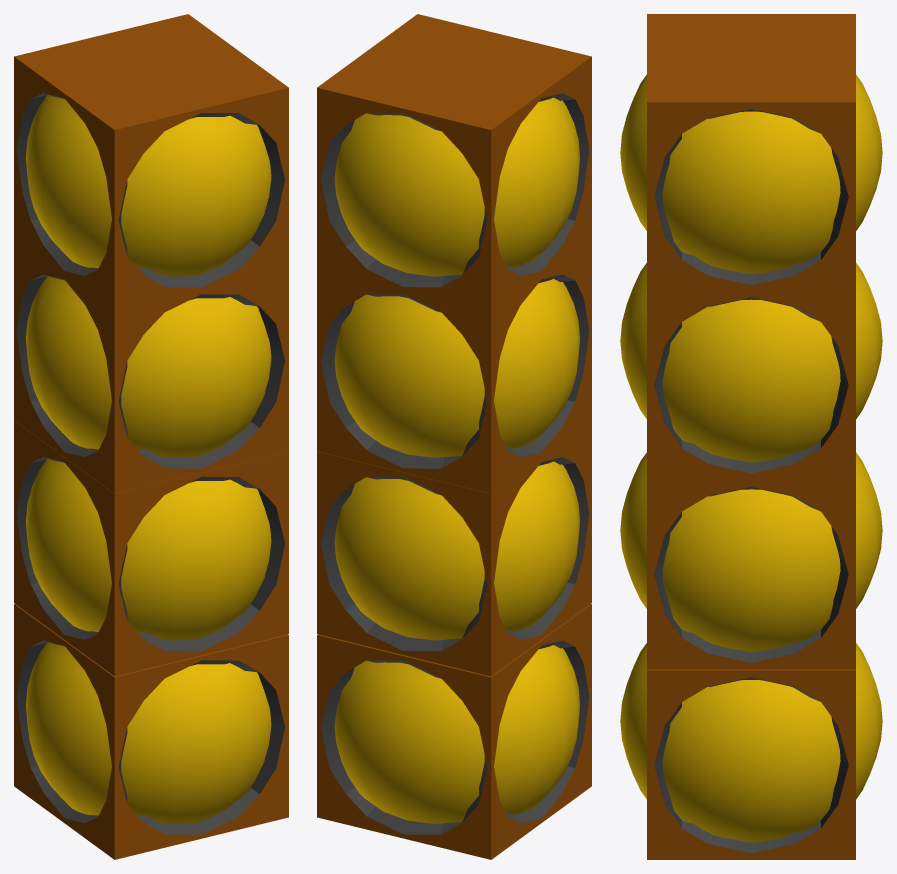
The model's file is CheckpointBox.fbx.
3 views of the same model, side by side, from view 1: azimuth 30°, elevation 25°; view 2: azimuth 150°, elevation 25°; view 3: azimuth 270°, elevation 25° (orthographic). The views are drawn at different scales.
Visible parts, largest first — view 1: pasted__pasted__pasted__pSphere2, pSphere2, pasted__pSphere2, pasted__pasted__pSphere2; view 2: pasted__pasted__pasted__pSphere2, pSphere2, pasted__pSphere2, pasted__pasted__pSphere2; view 3: pasted__pasted__pasted__pSphere2, pSphere2, pasted__pSphere2, pasted__pasted__pSphere2.
Boxes of the visible parts, box(x1,y1,x2,y2) form: pasted__pasted__pasted__pSphere2: box(14, 14, 288, 311); pSphere2: box(14, 603, 288, 859); pasted__pSphere2: box(14, 420, 288, 676); pasted__pasted__pSphere2: box(14, 238, 288, 493); pasted__pasted__pasted__pSphere2: box(317, 14, 591, 311); pSphere2: box(317, 603, 591, 859); pasted__pSphere2: box(317, 420, 591, 676); pasted__pasted__pSphere2: box(317, 238, 591, 493); pasted__pasted__pasted__pSphere2: box(620, 14, 882, 291); pSphere2: box(620, 643, 882, 859); pasted__pSphere2: box(620, 452, 882, 669); pasted__pasted__pSphere2: box(620, 263, 882, 479).
Bounding box in the file's own units: 1.26 × 4 × 1.26.
